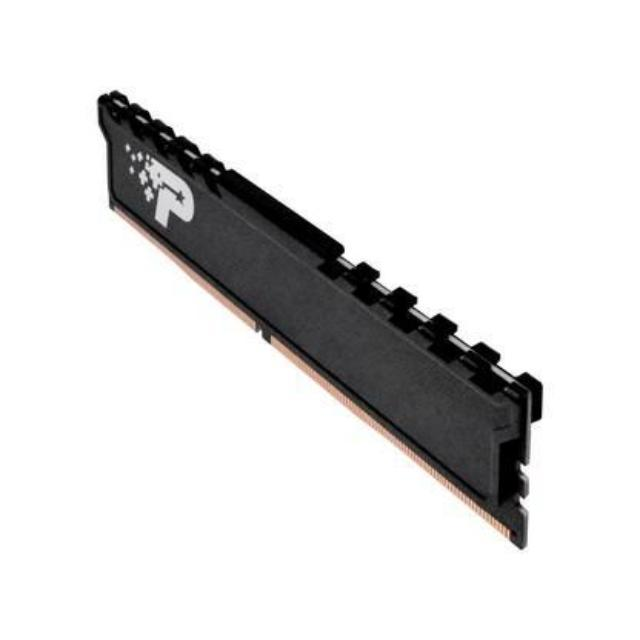RAM: (91, 84, 554, 562)
